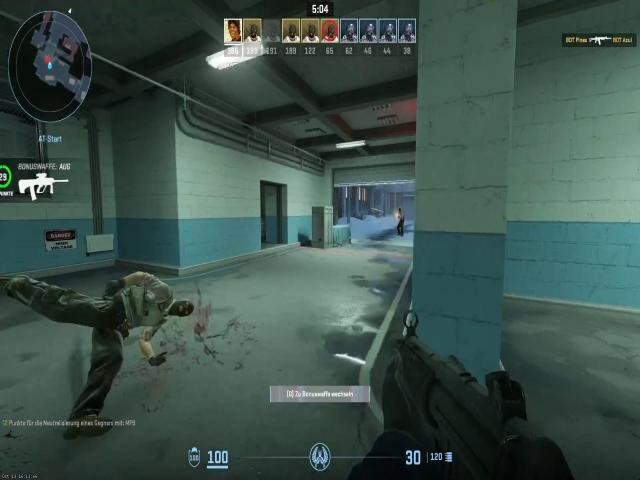Dead: (3, 266, 200, 393)
T: (394, 204, 406, 231), (397, 207, 404, 217)
